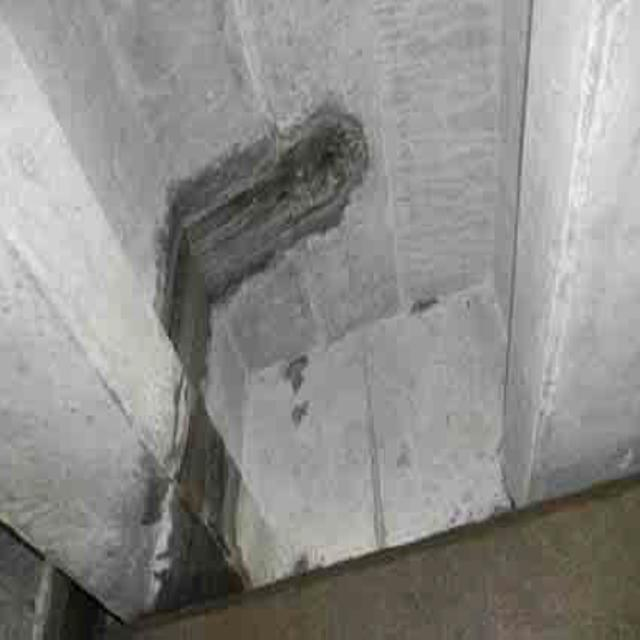leakage: (132, 60, 384, 629)
